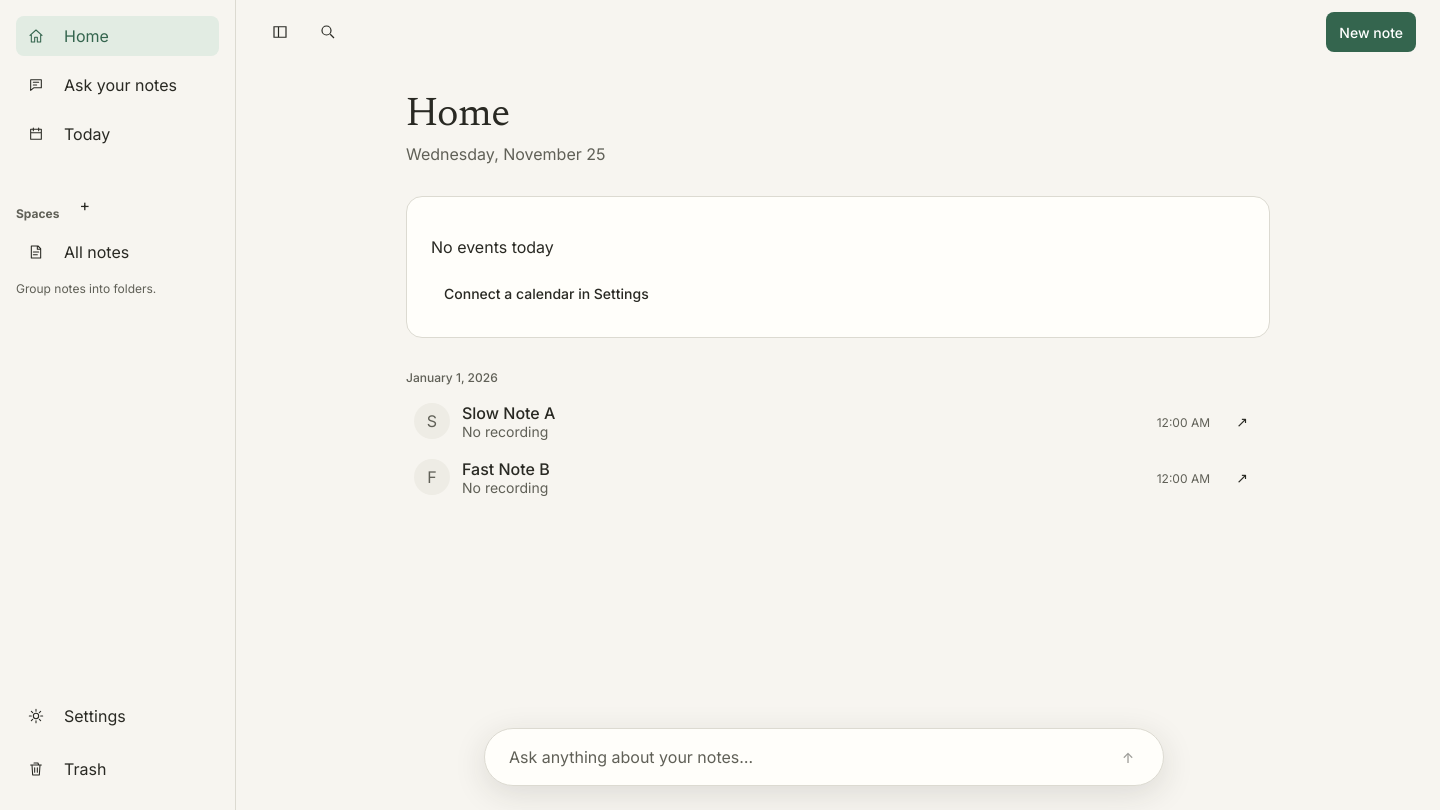
Scenario: F3 race: slow note A settling after fast note B does not overwrite note B
This screenshot has width=1440, height=810.
Click the button "Slow Note A". click: (509, 412)
box: x1=462 y1=402 x2=555 y2=422
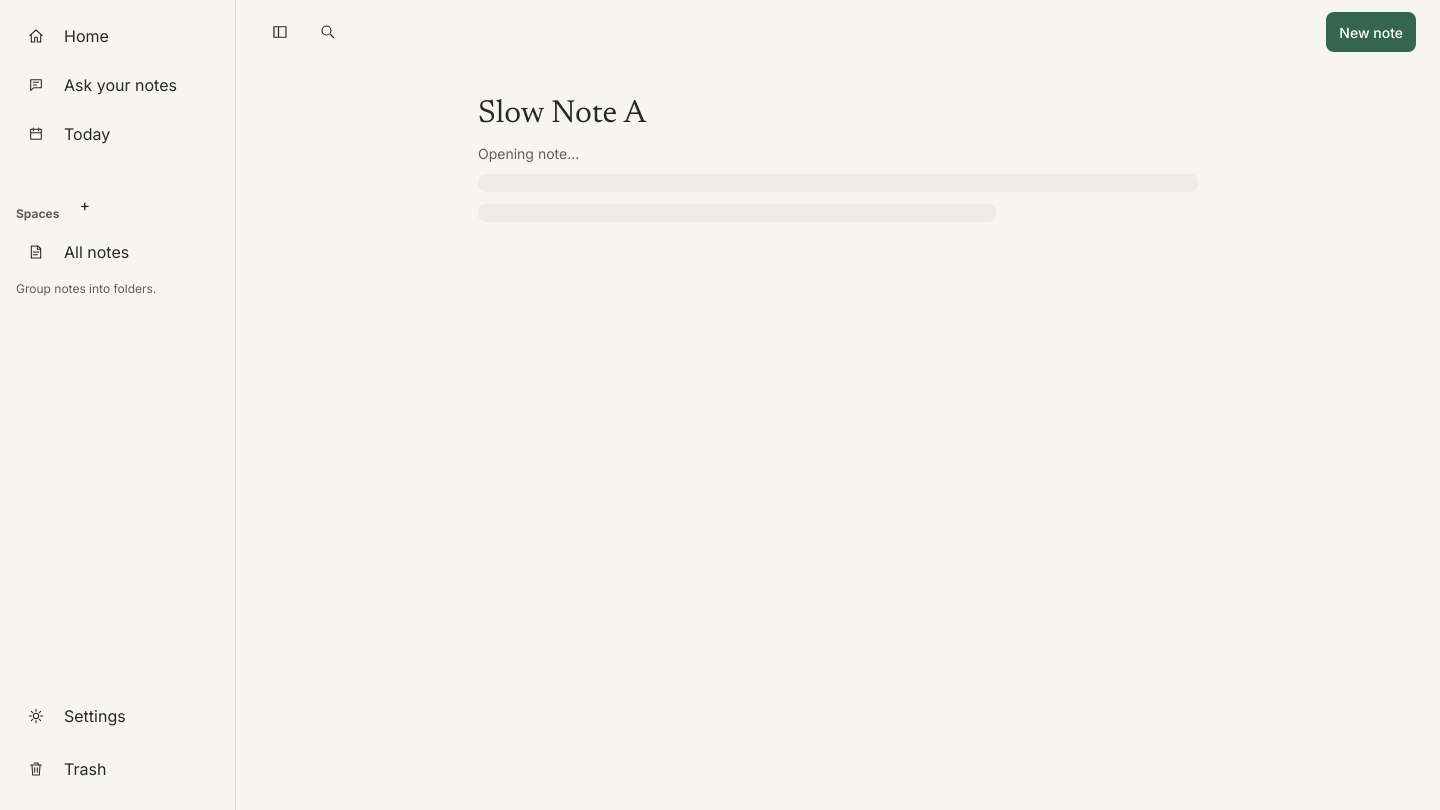
Click the button "Home". click: (118, 36)
box: x1=16 y1=16 x2=219 y2=56
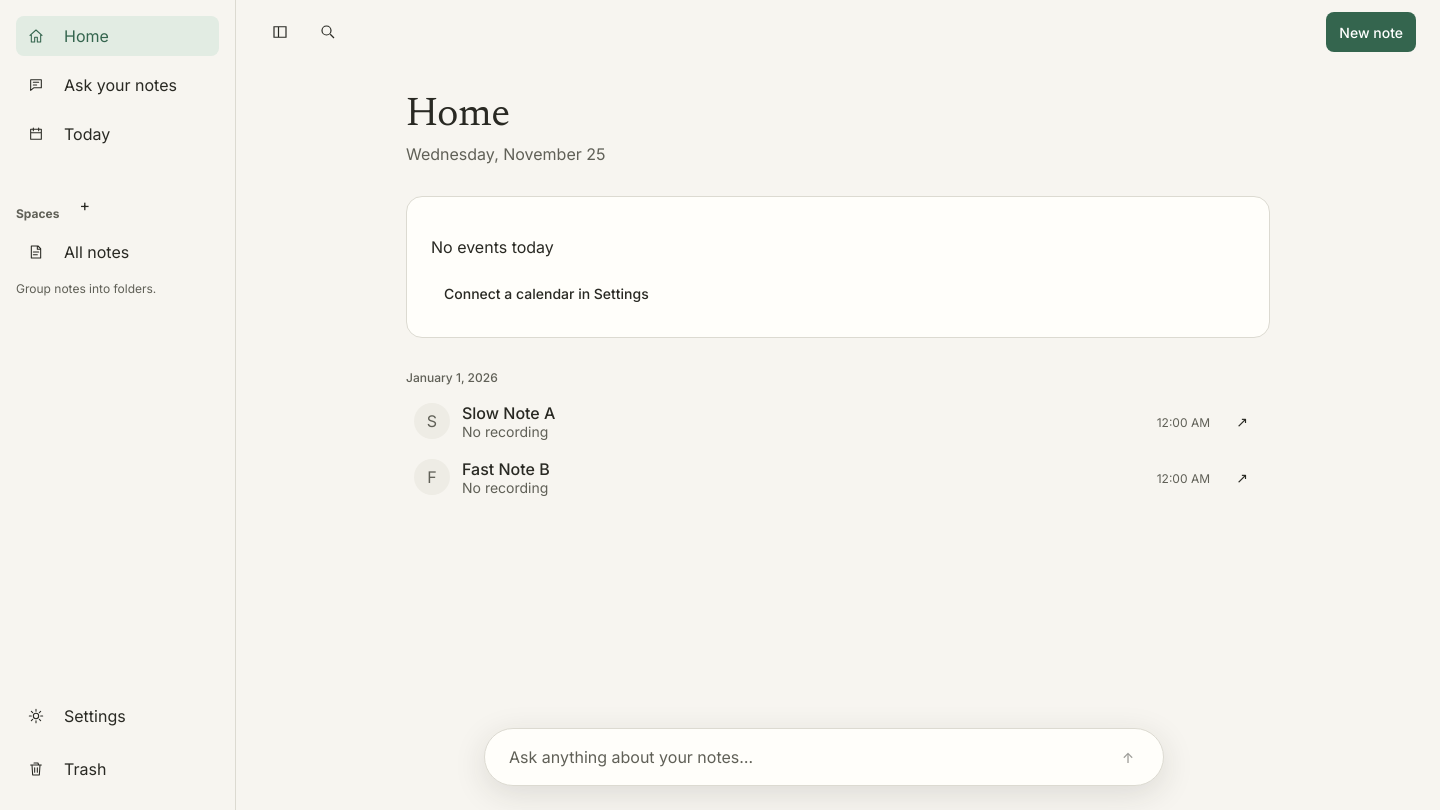
Click the button "Fast Note B". click: (506, 468)
box: x1=462 y1=458 x2=550 y2=478
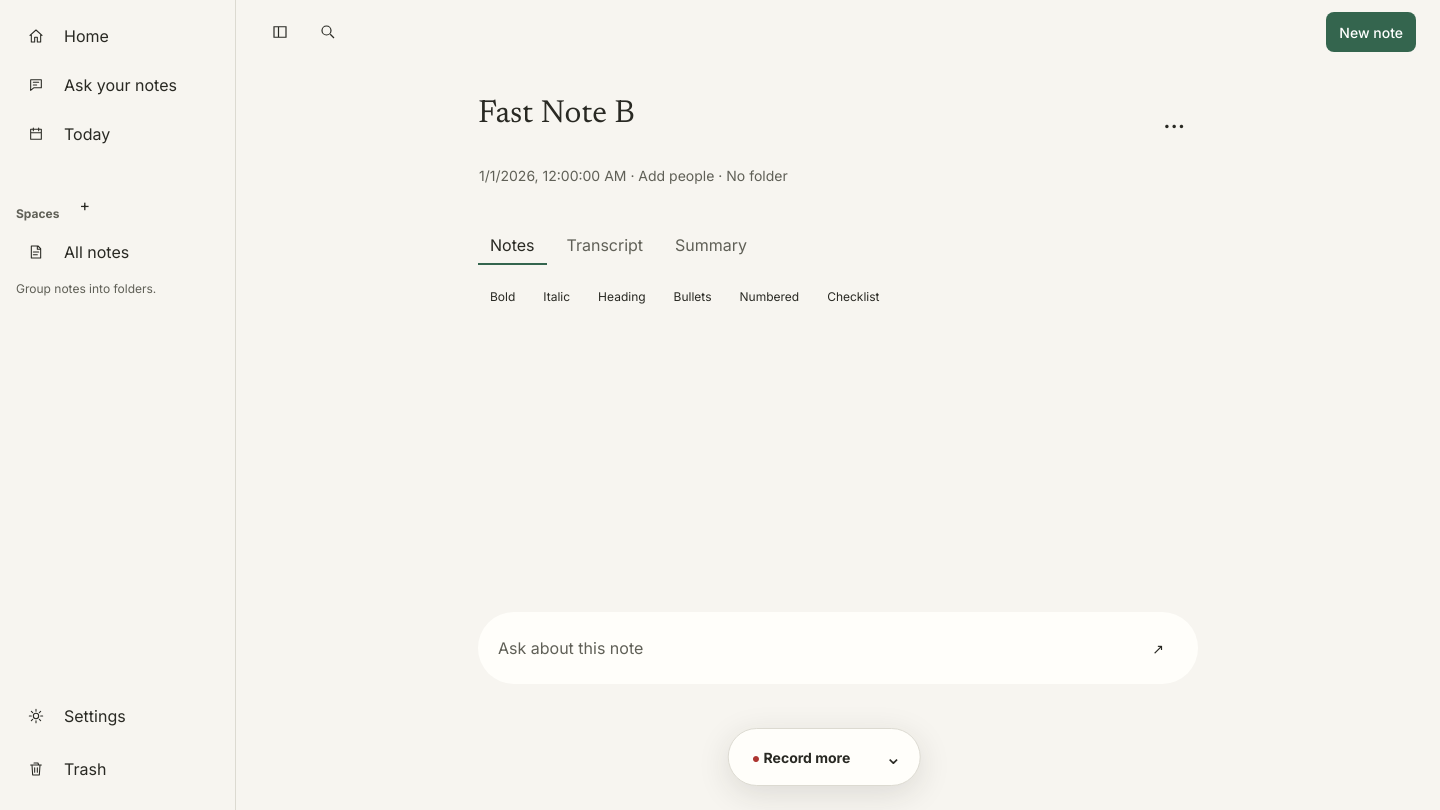
Check: the message "Slow Note A Opening note…" is not shown
Check: the text box named "Note title" holds "Fast Note B", box x1=478 y1=96 x2=1126 y2=133
